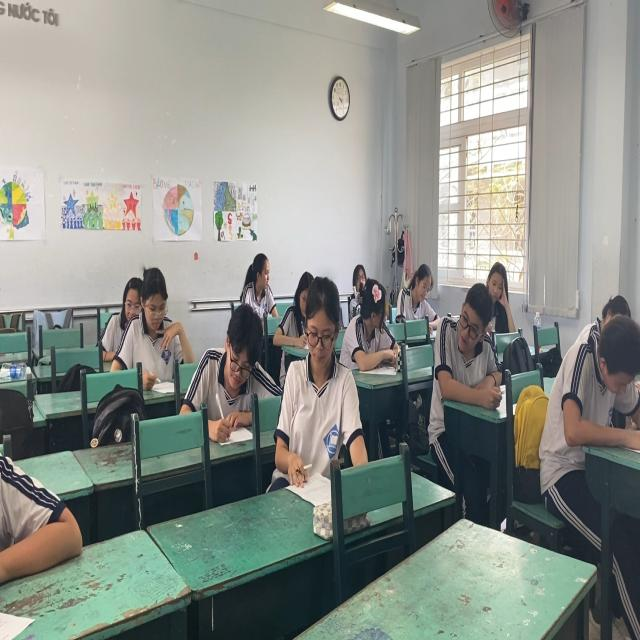cheating: (434, 279, 498, 376), (348, 276, 407, 379), (238, 248, 278, 320)
not_cheating: (284, 283, 365, 476), (554, 313, 640, 441), (193, 310, 280, 421), (107, 265, 177, 375), (399, 262, 453, 327), (484, 255, 516, 313)
